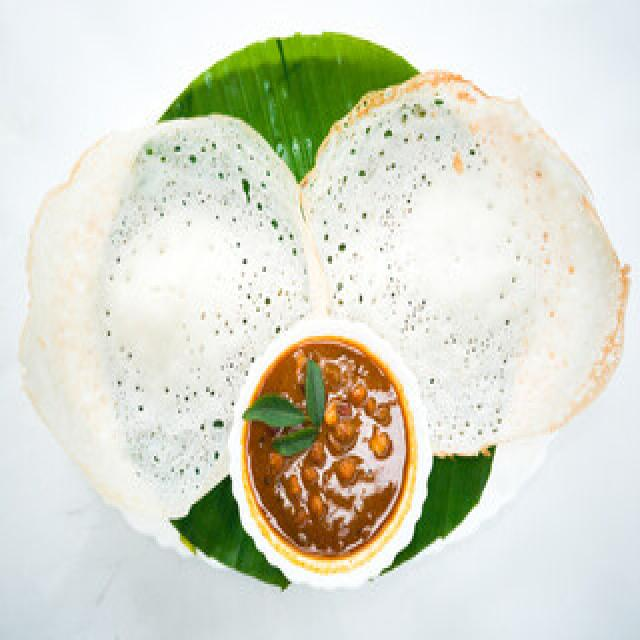AAPAM: (20, 72, 630, 541)
CURRY: (244, 344, 412, 557)
